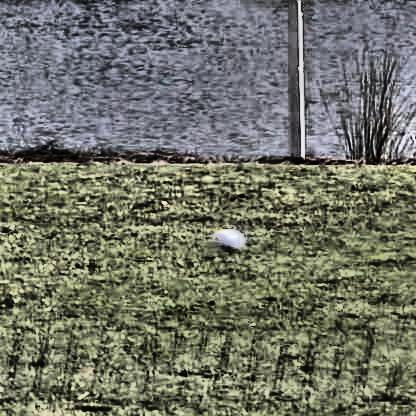golfball: (207, 222, 243, 256)
